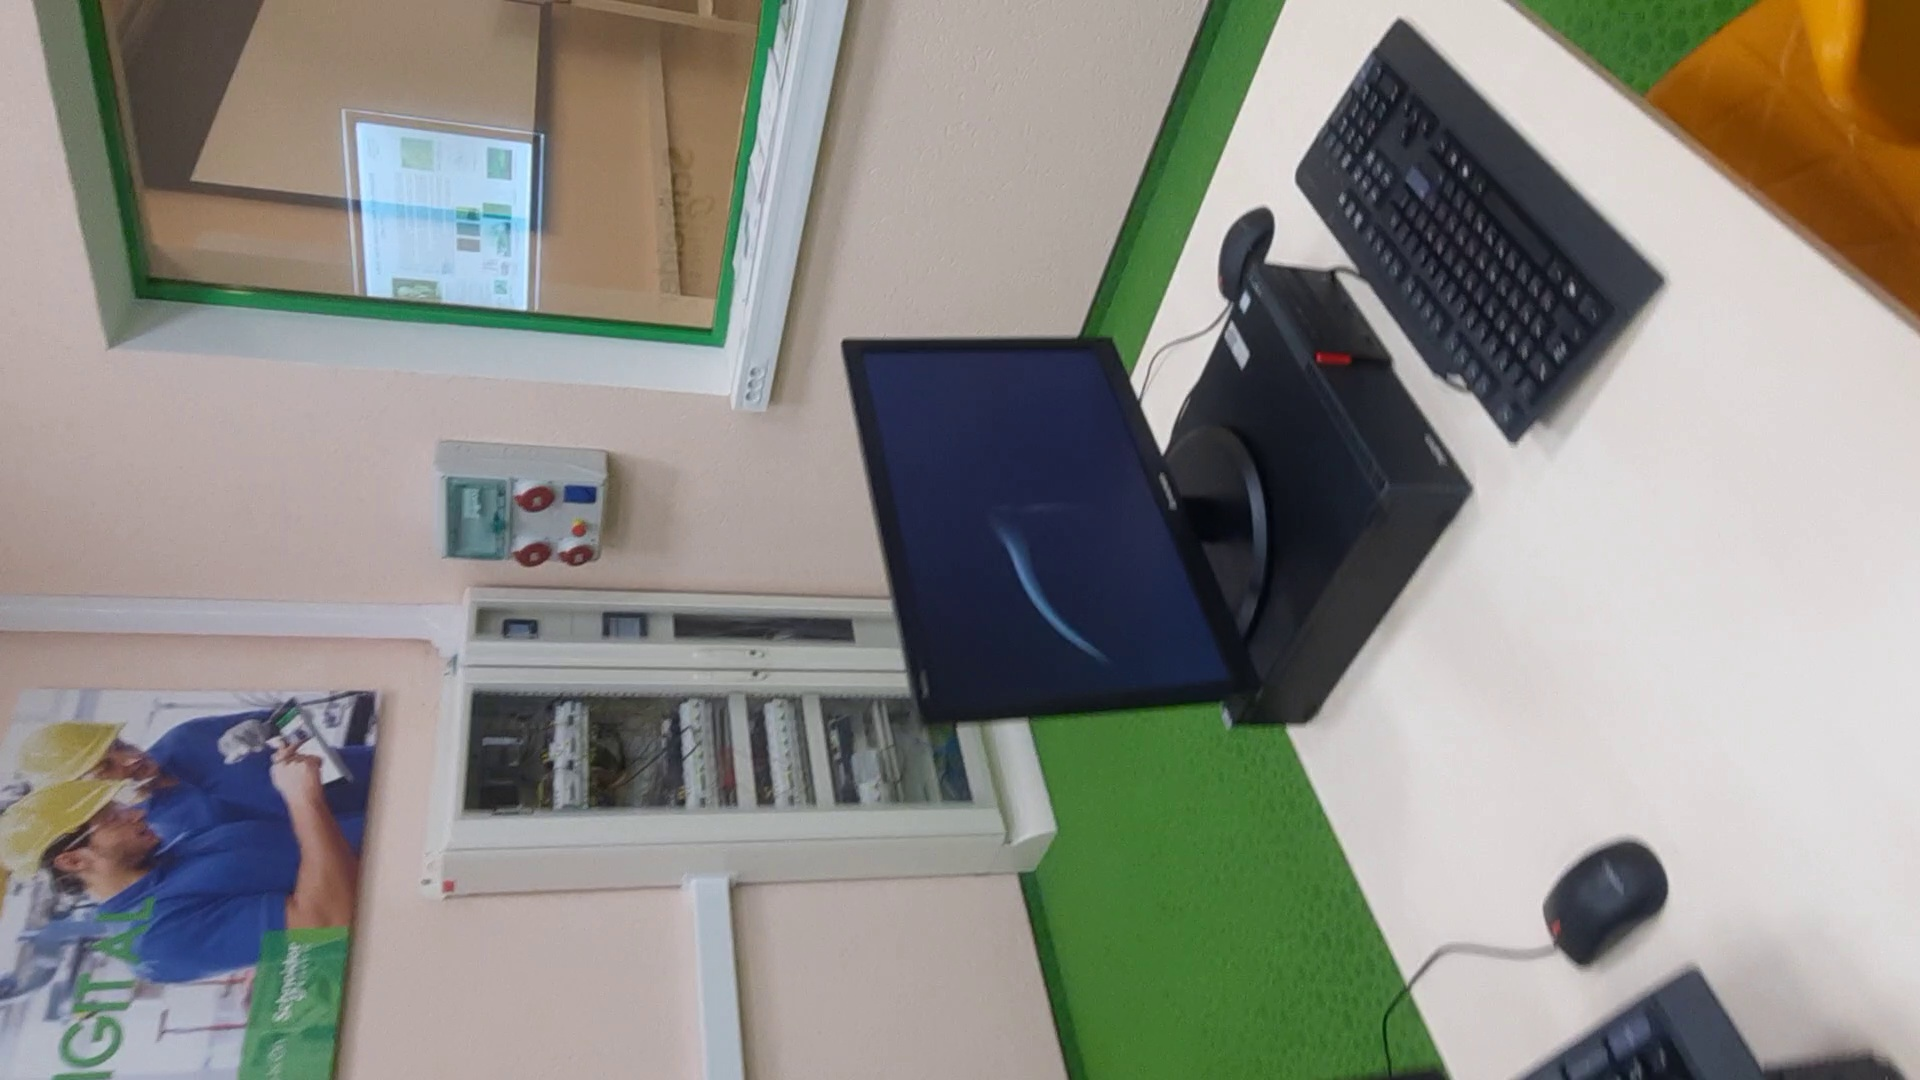stand1: (431, 576, 887, 887)
